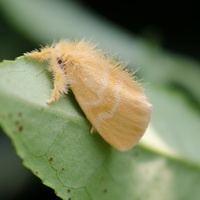insect: (24, 40, 151, 150)
